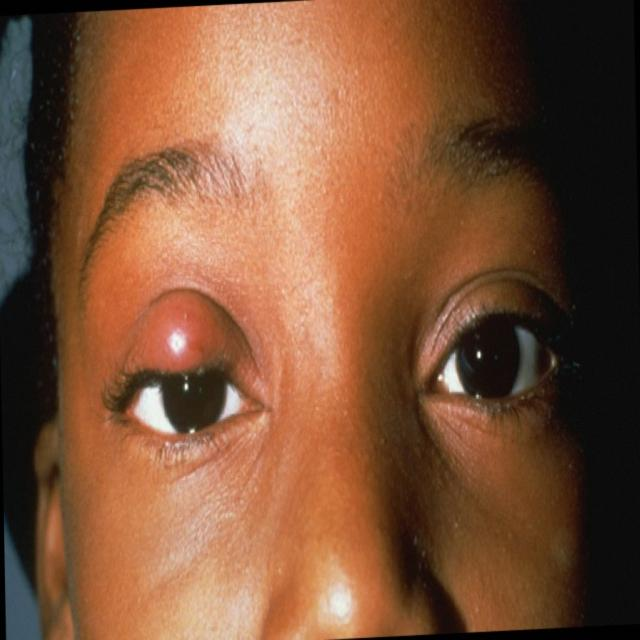Chalazion: (103, 260, 281, 504)
Healthy-Eye: (418, 258, 594, 459)
